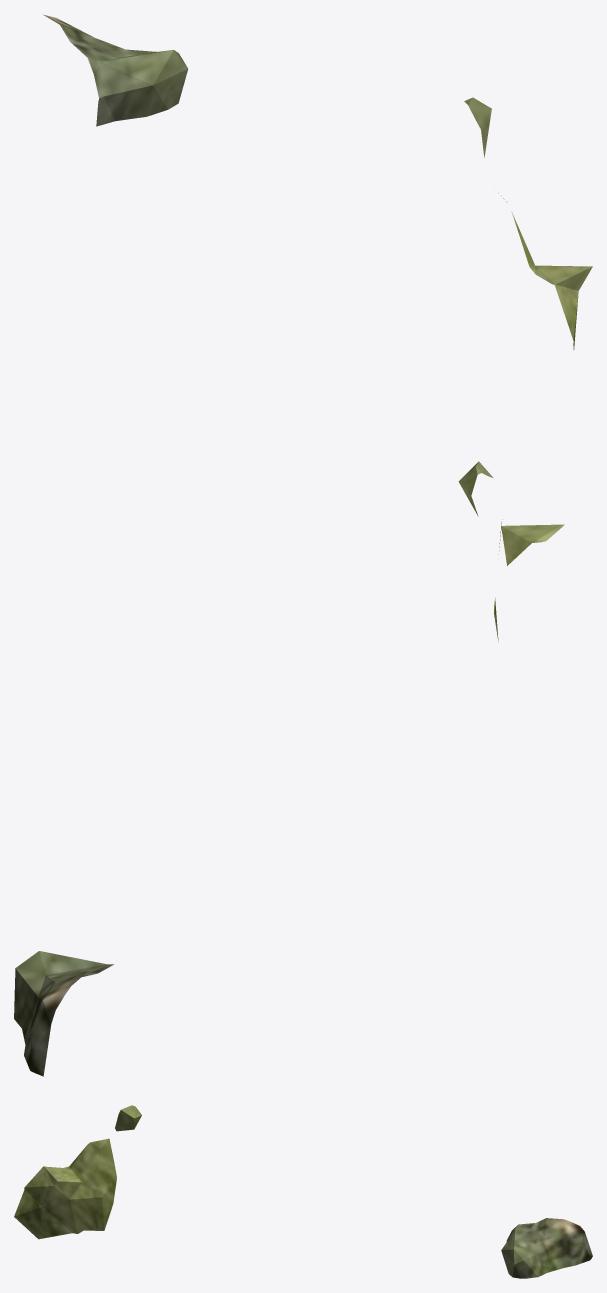
3 renders of one model, top to bottom at view 1: azimuth 30°, elevation 25°; view 2: azimuth 150°, elevation 25°; view 3: azimuth 270°, elevation 25°, orthographic. The views are drawn at different scales.
Bounding box in the file's own units: 0.5168 × 1.52 × 5.25.
1 material, 1 textured.
